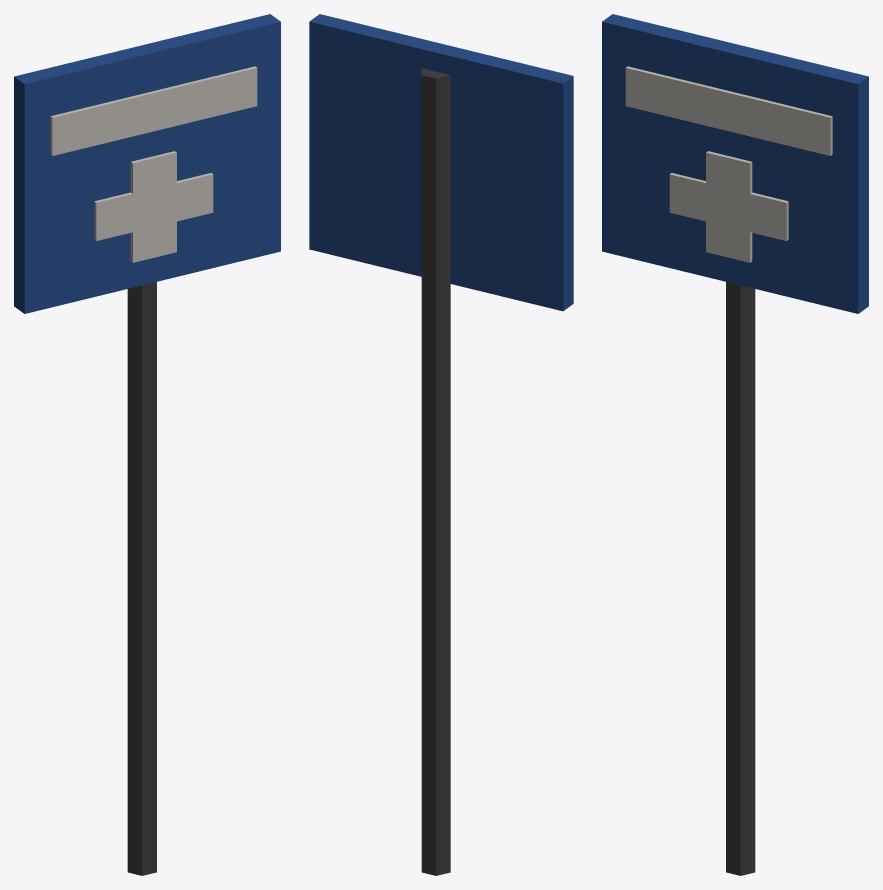
The model's file is banque_panneau.glb.
3 renders of one model, left to right at view 1: azimuth 30°, elevation 25°; view 2: azimuth 150°, elevation 25°; view 3: azimuth 330°, elevation 25°, orthographic.
Parts seen in each view (by area): view 1: banque_panneau; view 2: banque_panneau; view 3: banque_panneau.
Boxes of the visible parts, x1,y1,x2,y2 form: banque_panneau: (14, 14, 280, 875); banque_panneau: (309, 14, 573, 875); banque_panneau: (602, 14, 868, 875).
Bounding box in the file's own units: 0.7 × 2.15 × 0.0946.
